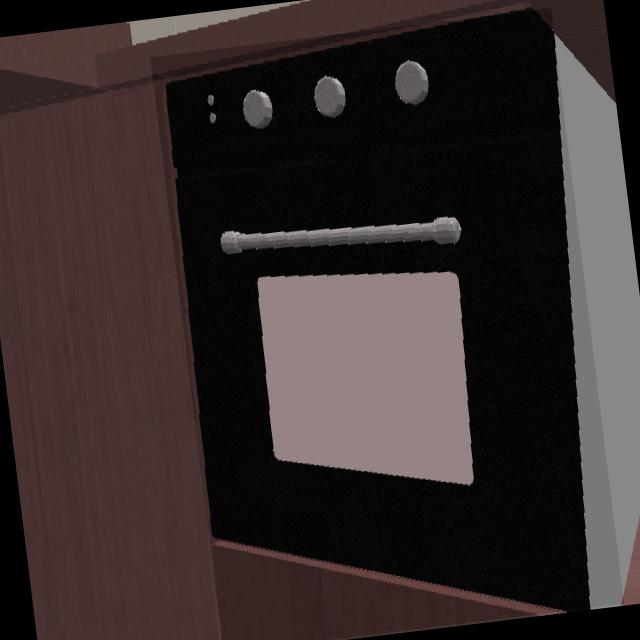oven: (165, 10, 589, 610)
